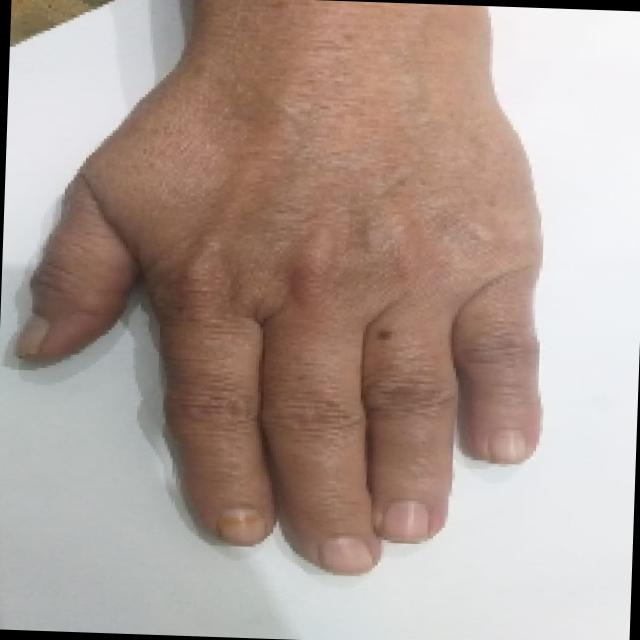Nail: (379, 499, 430, 542), (215, 507, 272, 545), (319, 535, 374, 573), (487, 428, 528, 463), (17, 315, 48, 357)
